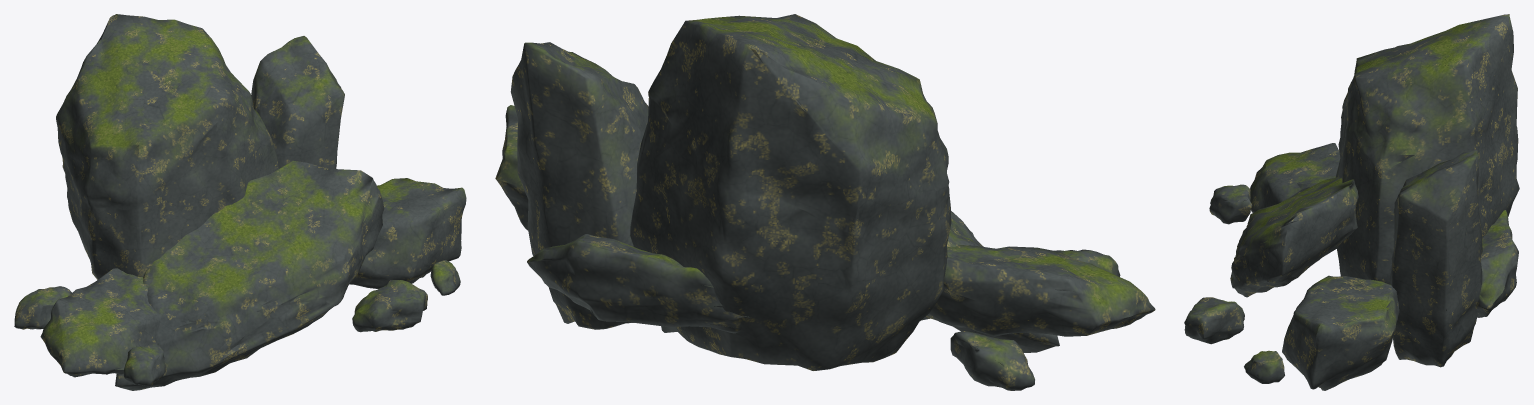
Rendered from basalt-group.glb.
3 views of the same model, side by side, from view 1: azimuth 30°, elevation 25°; view 2: azimuth 150°, elevation 25°; view 3: azimuth 270°, elevation 25° (orthographic). The views are drawn at different scales.
Visible parts, largest first — view 1: Reference basalt group 03.003; view 2: Reference basalt group 03.003; view 3: Reference basalt group 03.003.
Boxes of the visible parts, x1,y1,x2,y2 form: Reference basalt group 03.003: (14,14,466,390); Reference basalt group 03.003: (495,14,1155,390); Reference basalt group 03.003: (1184,14,1519,390).
Bounding box in the file's own units: 4.93 × 3.03 × 3.18.
1 material, 1 textured.
